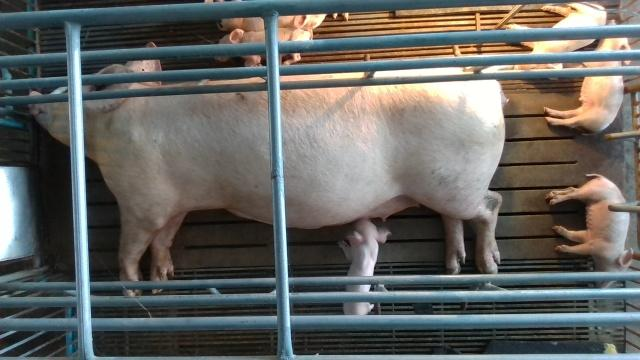piglet: (548, 172, 633, 289), (546, 16, 630, 133), (502, 2, 607, 70), (338, 218, 391, 315), (213, 28, 313, 66)
sow-sleep-lactate: (28, 41, 508, 299)
